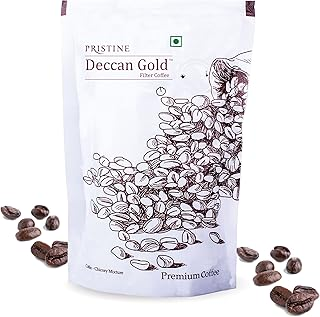Coffee: (2, 1, 319, 317)
